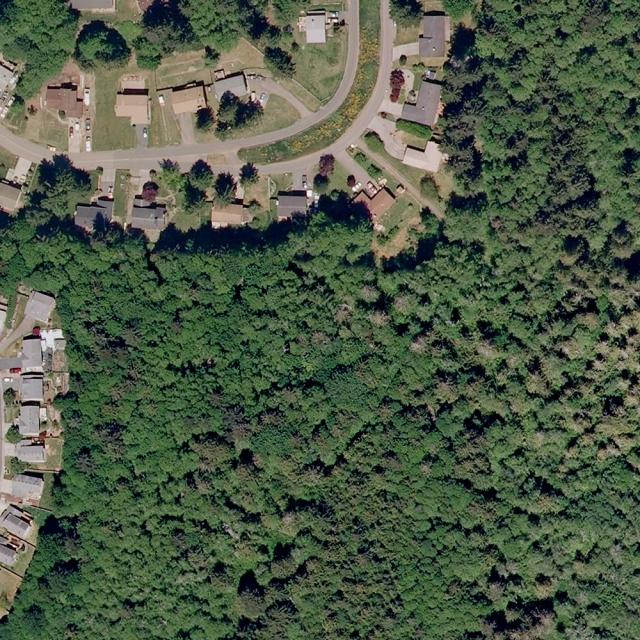building: (0, 328, 65, 566), (401, 77, 446, 128), (352, 176, 399, 223), (69, 193, 120, 235), (115, 75, 151, 125), (401, 135, 446, 174), (1, 54, 24, 119), (168, 81, 208, 117), (208, 197, 253, 229), (46, 81, 84, 118), (22, 288, 59, 325), (418, 13, 446, 58), (211, 71, 249, 103), (275, 190, 309, 221), (131, 206, 167, 230), (0, 181, 23, 213), (306, 11, 326, 44)
greenland: (235, 0, 309, 81), (159, 159, 236, 211), (292, 34, 349, 101), (195, 97, 267, 144), (216, 91, 264, 139), (233, 160, 263, 189)
metalled_road: (246, 70, 317, 122), (365, 109, 416, 164), (0, 124, 54, 171), (177, 112, 197, 146), (390, 41, 421, 61), (67, 121, 84, 153), (390, 69, 405, 102), (135, 125, 148, 148)
